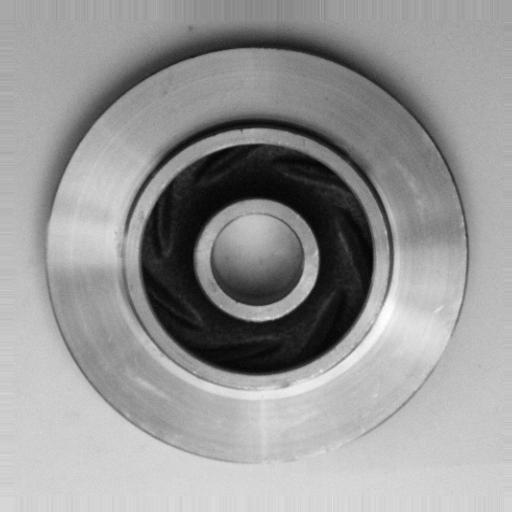unpolished_casting: (40, 41, 468, 468)
